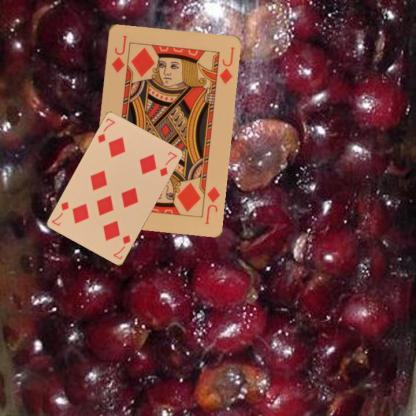7d: (110, 232, 132, 261), (94, 116, 116, 144)
Jd: (108, 32, 127, 74), (202, 184, 221, 225)
